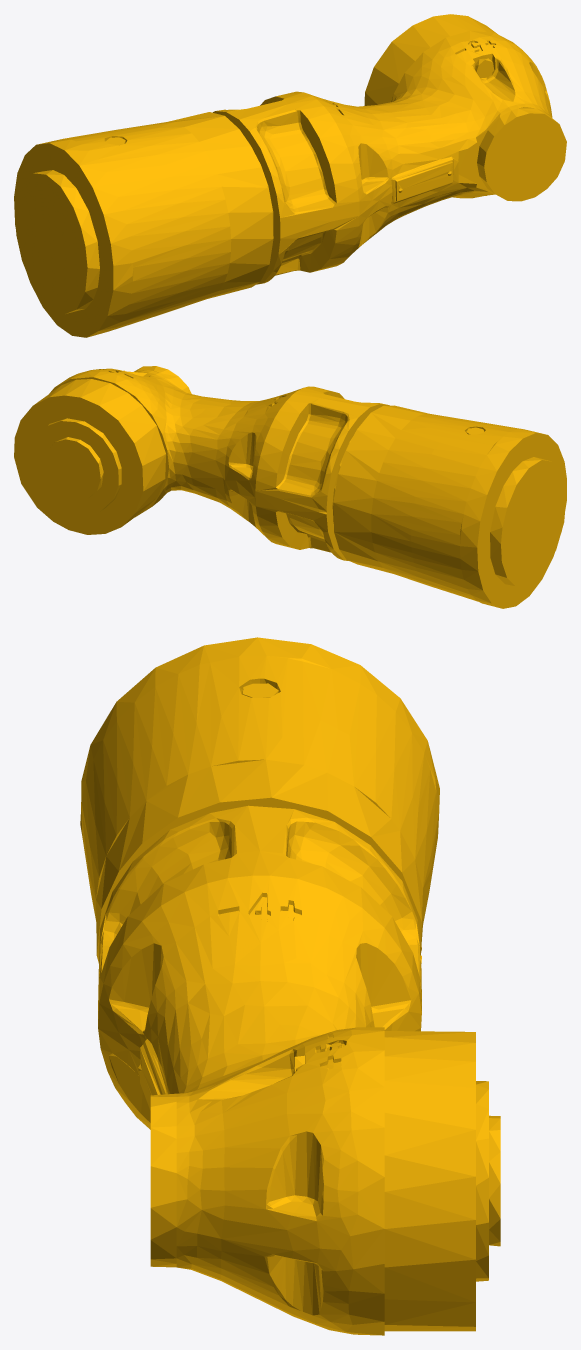
3 renders of one model, top to bottom at view 1: azimuth 30°, elevation 25°; view 2: azimuth 150°, elevation 25°; view 3: azimuth 270°, elevation 25°, orthographic. The views are drawn at different scales.
Parts seen in each view (by area): view 1: node0; view 2: node0; view 3: node0.
Boxes of the visible parts, x1=… form: node0: x1=14, y1=14, x2=566, y2=337; node0: x1=14, y1=366, x2=566, y2=608; node0: x1=80, y1=637, x2=500, y2=1335.
Size of the model in its own units: 0.4138 by 0.1612 by 0.1379.
